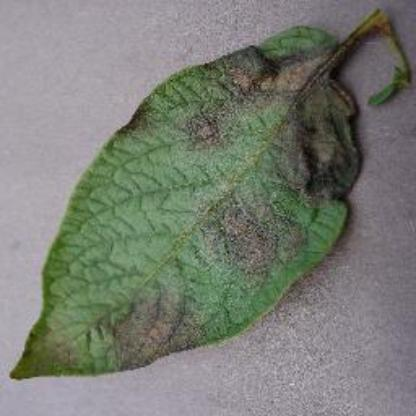Late-Blight: (11, 23, 362, 408), (366, 358, 372, 368)
